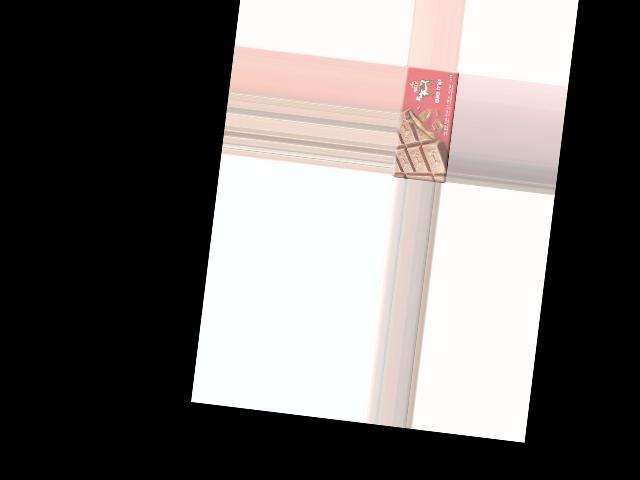chocolate: (392, 64, 458, 181)
